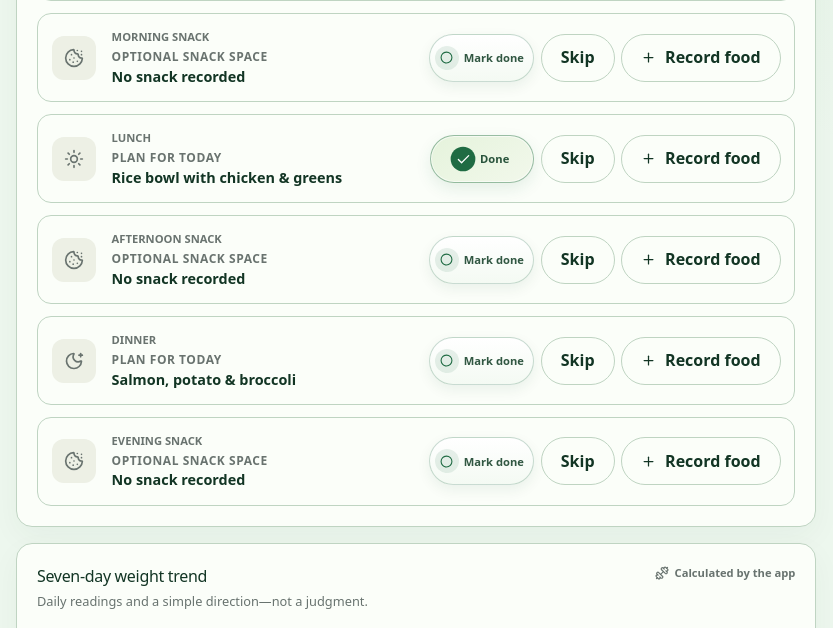
it: TodayDashboard meal completion › exposes the skip editor as a disclosure and restores focus on cancel
This screenshot has width=833, height=628.
(page scrolled)
What coordinates should you click on to do the following:
click the button with aria-label "Skip Dinner"
I would click on:
 (578, 360)
Its box is [541,336,615,384].
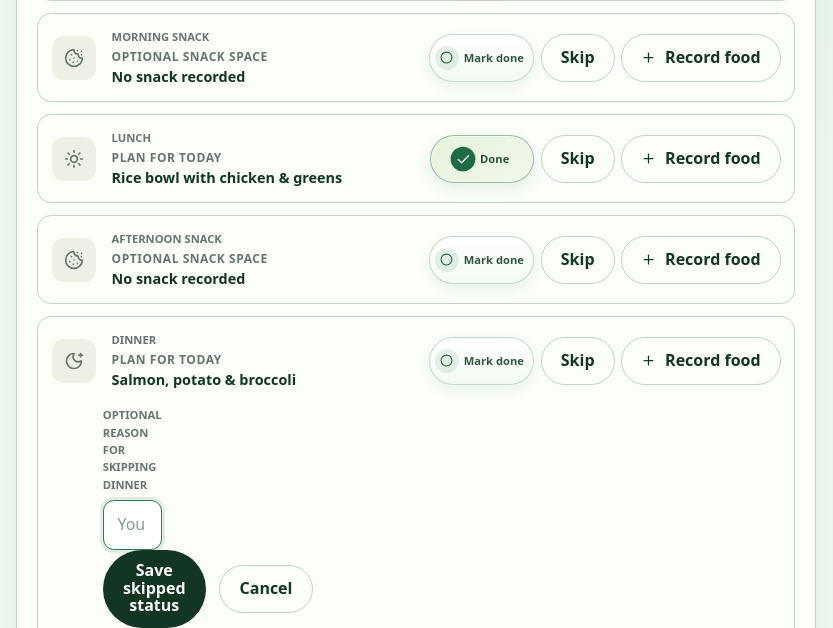
What coordinates should you click on to do the following:
click the button "Cancel"
I would click on:
 (266, 589)
Its box is [219,565,313,613].
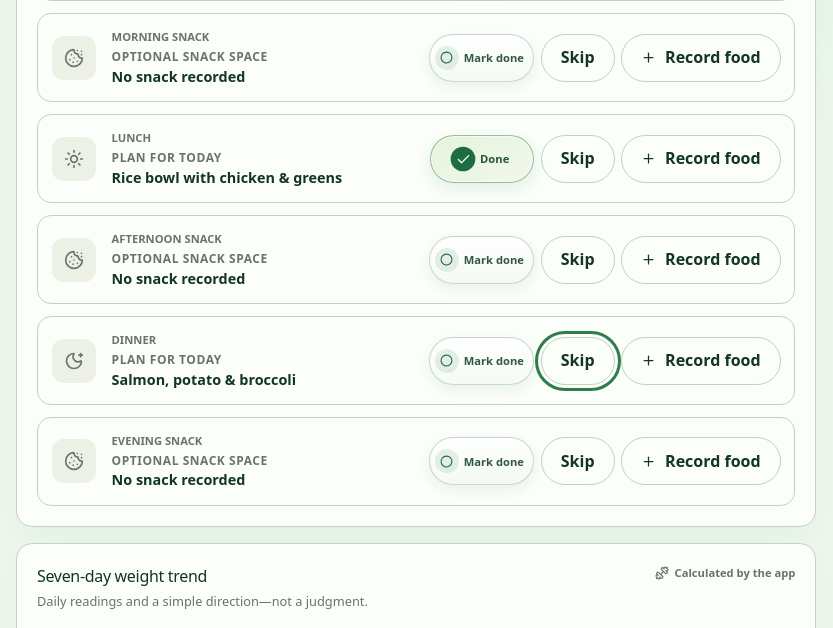
Result: the button with aria-label "Skip Dinner" is collapsed at [541,336,615,384]
